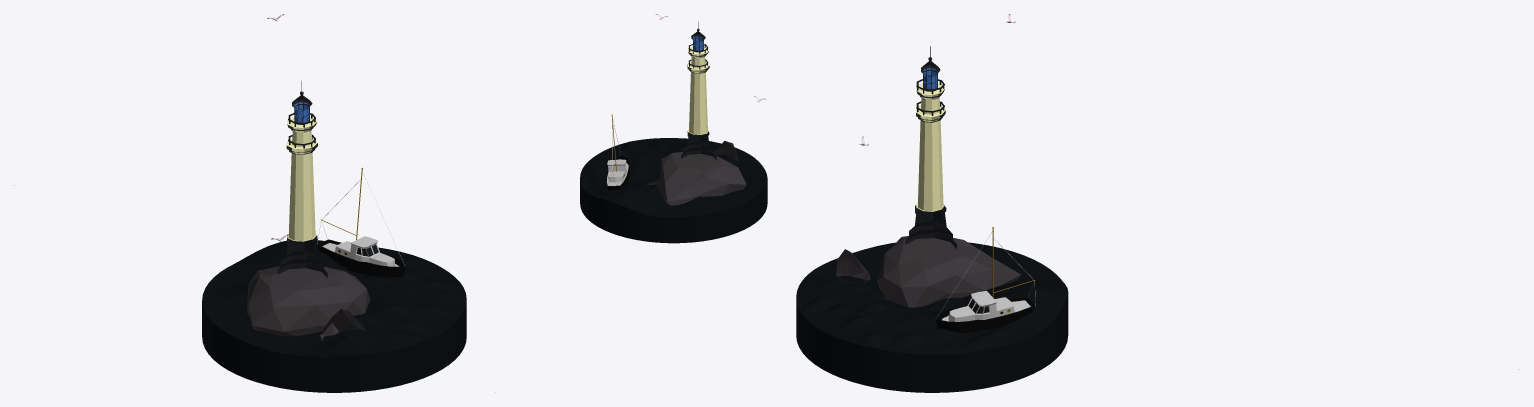
Rendered from lighthouse.obj.
The picture shows the model from 3 angles, left to right: view 1: azimuth 30°, elevation 25°; view 2: azimuth 150°, elevation 25°; view 3: azimuth 270°, elevation 25°; orthographic projection. The views are drawn at different scales.
Parts seen in each view (by area): view 1: Cube.004_Cube, Icosphere.001, Circle, Cube.009, Circle.001, Cube.008, Icosphere.003; view 2: Cube.004_Cube, Icosphere.001, Circle, Circle.001, Cube.008, Icosphere.003, Cube.009; view 3: Cube.004_Cube, Icosphere.001, Circle, Cube.009, Cube.008, Circle.001, Icosphere.003.
Boxes of the visible parts, x1,y1,x2,y2 form: Cube.004_Cube: [202, 240, 466, 392]; Icosphere.001: [247, 266, 370, 336]; Circle: [286, 117, 317, 241]; Cube.009: [317, 239, 405, 277]; Circle.001: [277, 235, 327, 278]; Cube.008: [335, 236, 395, 266]; Icosphere.003: [320, 308, 365, 340]; Cube.004_Cube: [580, 138, 767, 243]; Icosphere.001: [658, 151, 746, 205]; Circle: [687, 46, 709, 134]; Circle.001: [681, 131, 716, 160]; Cube.008: [607, 159, 626, 182]; Icosphere.003: [713, 141, 739, 164]; Cube.009: [605, 155, 629, 190]; Cube.004_Cube: [796, 242, 1068, 392]; Icosphere.001: [877, 236, 1020, 307]; Circle: [916, 83, 945, 211]; Cube.009: [935, 297, 1034, 333]; Cube.008: [948, 290, 1014, 321]; Circle.001: [905, 205, 956, 249]; Icosphere.003: [836, 249, 870, 284].
Bounding box in the file's own units: 3.19 × 4.63 × 8.48.
